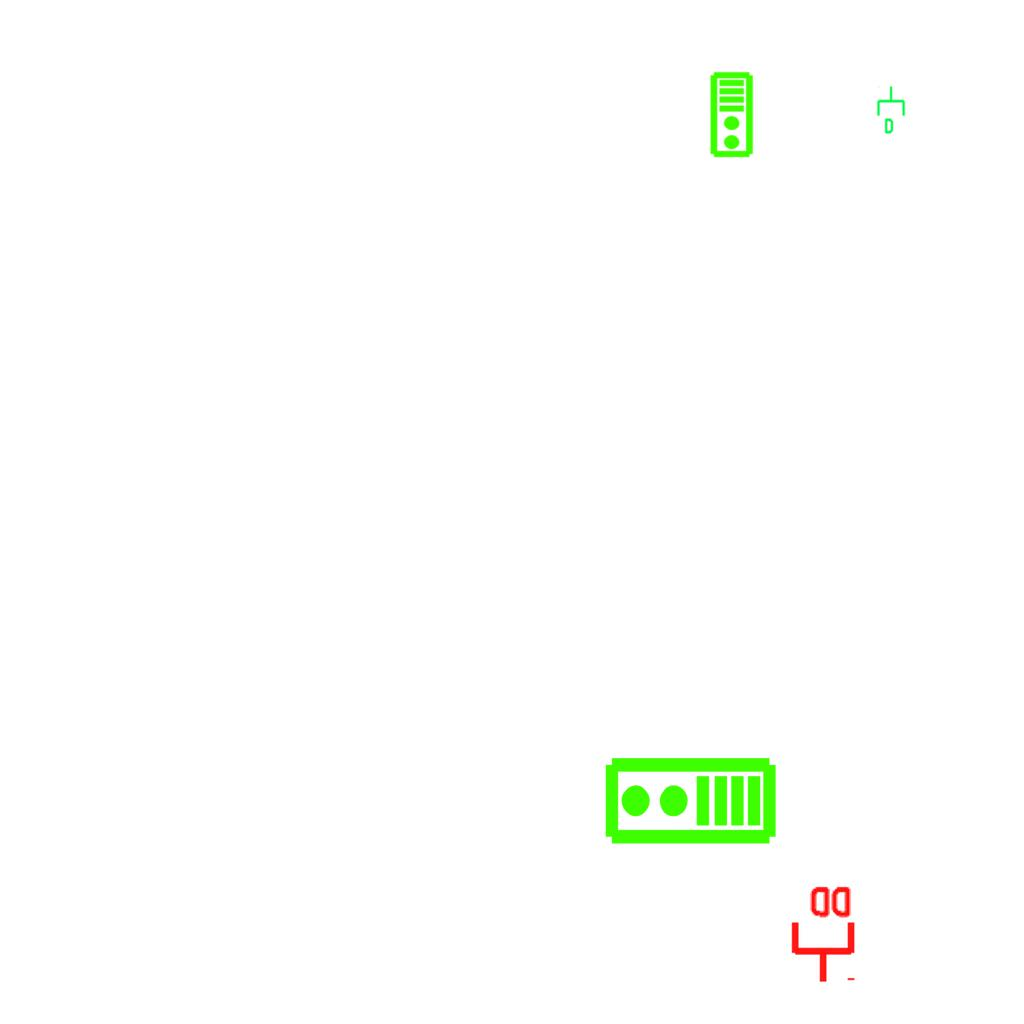Datenanschluss_einfach: (875, 85, 909, 135)
Datenanschluss_zweifach: (787, 882, 856, 985)
Gegensprechanlage_mit_Video: (602, 755, 778, 850), (709, 71, 756, 159)
